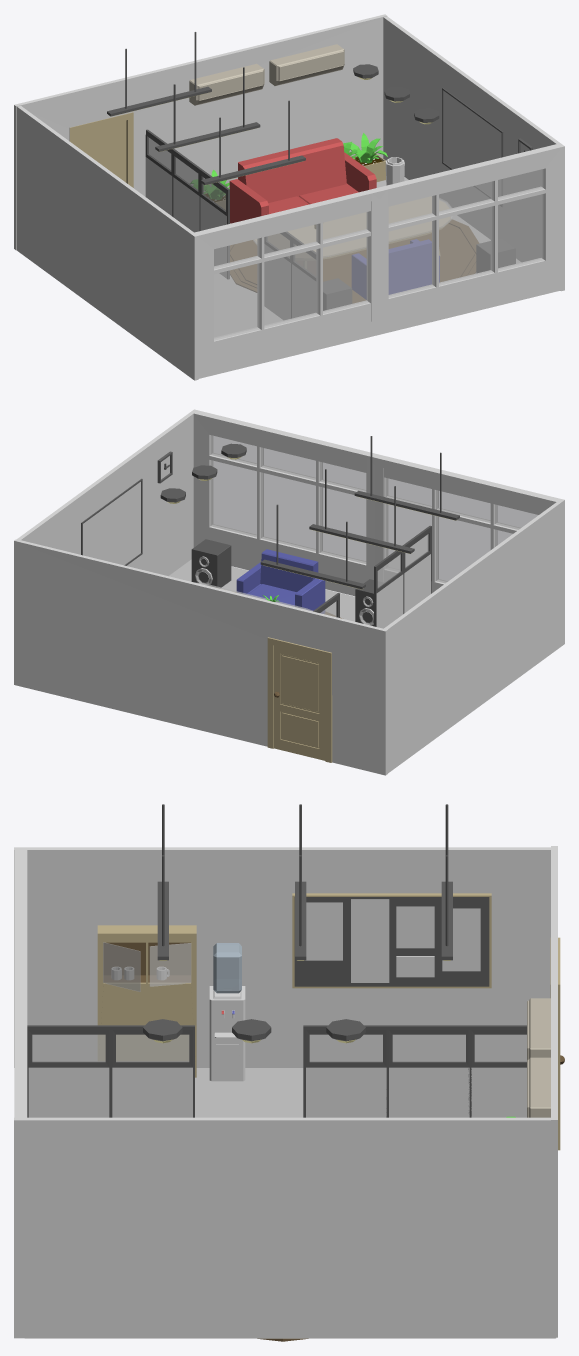
The model's file is ROOM2.fbx.
3 views of the same model, one above another, from view 1: azimuth 30°, elevation 25°; view 2: azimuth 150°, elevation 25°; view 3: azimuth 270°, elevation 25° (orthographic). The views are drawn at different scales.
Visible parts, largest first — view 1: pCube298, pCube284, pCube290, pCube285, pCube289, pCube286, pCube291, sofa1, carpet, pasted__Sign__projector, pCylinder83, pCube216 (+14 smaller); view 2: pCube298, pCube284, pCube290, pCube291, pCube289, pCube286, pCube216, pCube285, pasted__Sign__projector, sofa2, pCube403 (×3), pasted__pCube319 (+4 smaller); view 3: pCube289, pCube284, pasted__pCube271, pasted__pCube292, pasted__pCube321, pasted__pCube320, pasted__pCube78, pasted__pCube319, Floor1, pasted__pCube322, pCube298, pasted__pCube294 (+17 smaller).
Boxes of the visible parts, x1,y1,x2,y2 form: pCube298: (14, 14, 386, 250); pCube284: (17, 106, 198, 380); pCube290: (368, 144, 561, 336); pCube285: (193, 190, 387, 378); pCube289: (383, 16, 564, 291); pCube286: (214, 211, 369, 340); pCube291: (388, 169, 544, 297); sofa1: (229, 138, 376, 223); carpet: (230, 219, 478, 303); pasted__Sign__projector: (442, 87, 503, 206); pCylinder83: (255, 197, 450, 258); pCube216: (69, 112, 133, 187); pCube298: (14, 539, 387, 775); pCube284: (384, 499, 564, 773); pCube290: (192, 410, 386, 596); pCube291: (211, 435, 366, 563); pCube289: (17, 409, 196, 576); pCube286: (386, 478, 538, 582); pCube216: (267, 637, 332, 762); pCube285: (367, 453, 561, 592); pasted__Sign__projector: (81, 478, 142, 565); sofa2: (236, 549, 325, 613); pCube403 (×3): (260, 490, 459, 589); pasted__pCube319: (374, 550, 404, 628); pCube289: (14, 1117, 555, 1338); pCube284: (14, 847, 550, 1067); pasted__pCube271: (97, 925, 196, 1077); pasted__pCube292: (292, 893, 491, 988); pasted__pCube321: (386, 1025, 471, 1117); pasted__pCube320: (27, 1025, 111, 1117); pasted__pCube78: (303, 1025, 388, 1117); pasted__pCube319: (109, 1025, 194, 1117); Floor1: (25, 1068, 555, 1338); pasted__pCube322: (468, 1025, 526, 1117); pCube298: (551, 846, 557, 1337); pasted__pCube294: (351, 899, 389, 982).
Size of the model in its own units: 24.96 by 13.78 by 21.22.
